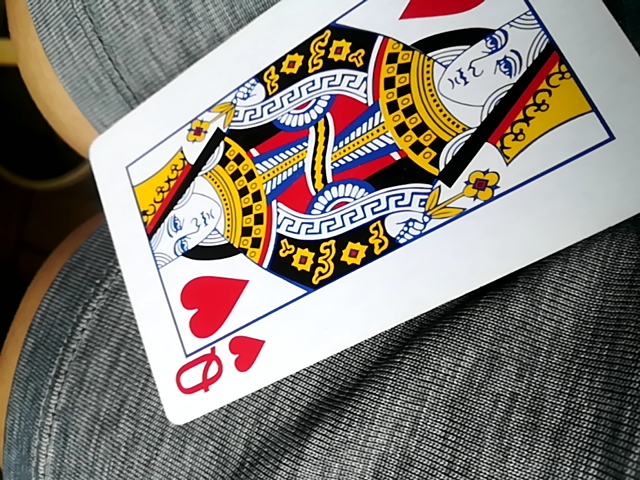hx q: (87, 5, 640, 418)
